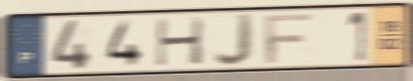1: (345, 10, 369, 64)
4: (49, 17, 94, 72), (105, 18, 146, 68)
F: (262, 12, 314, 65)
H: (153, 15, 207, 68)
J: (211, 11, 256, 69)
